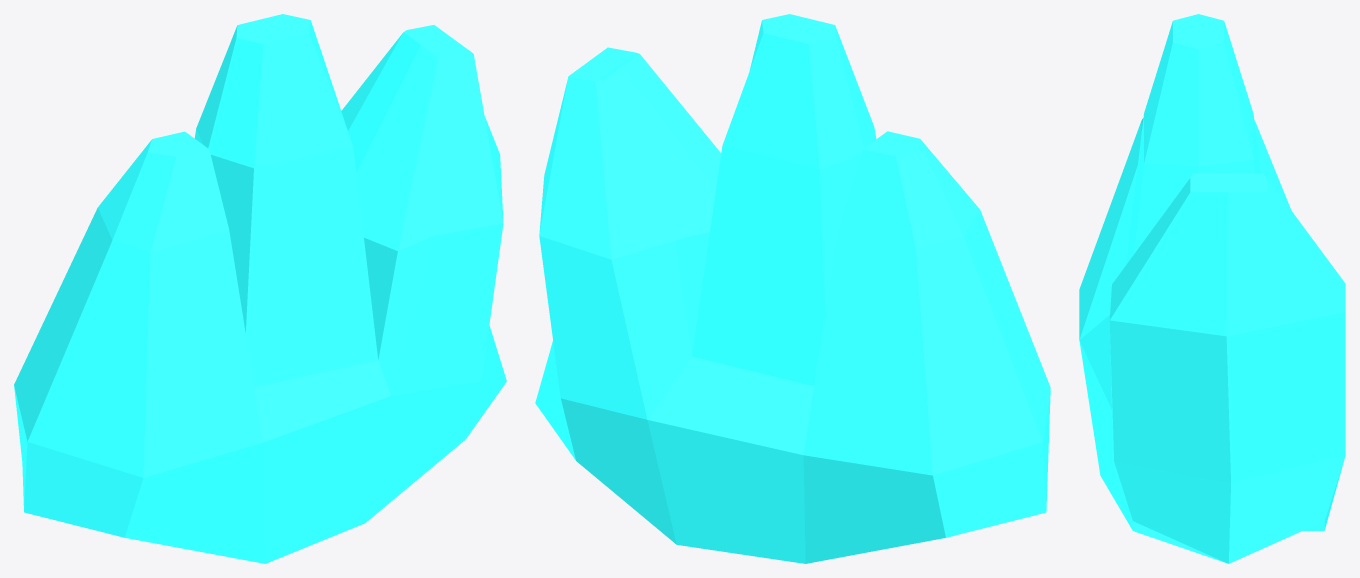
The model's file is Item_Crystal_Shard.fbx.
The picture shows the model from 3 angles, left to right: view 1: azimuth 30°, elevation 25°; view 2: azimuth 150°, elevation 25°; view 3: azimuth 270°, elevation 25°; orthographic projection. The views are drawn at different scales.
Parts seen in each view (by area): view 1: Item Cystal Shard; view 2: Item Cystal Shard; view 3: Item Cystal Shard.
Part boxes in pixels (bbox=[...]): Item Cystal Shard: bbox=[14, 14, 506, 563]; Item Cystal Shard: bbox=[535, 14, 1050, 563]; Item Cystal Shard: bbox=[1079, 14, 1345, 563].
Bounding box in the file's own units: 248 × 230 × 118.
